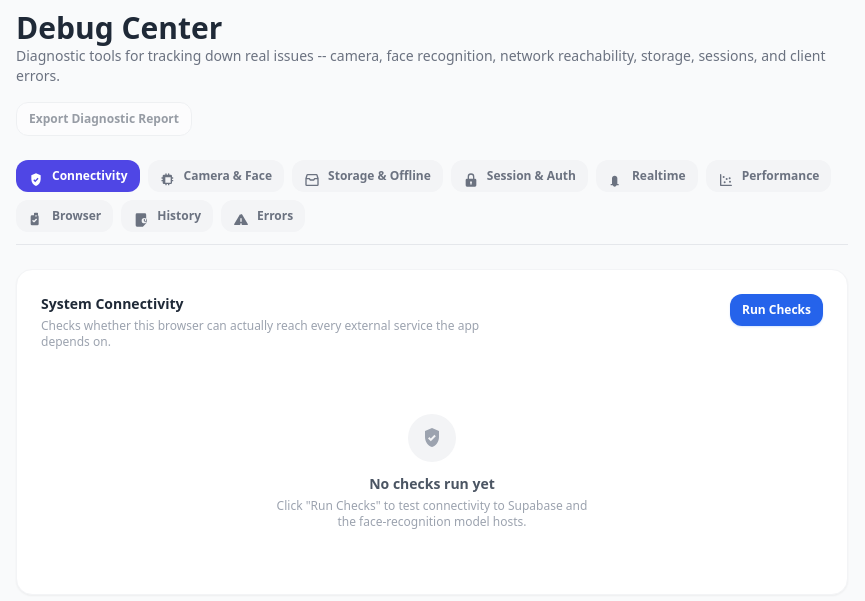
Test: DebugCenterView › the connectivity tab shows a Hugging Face reachability failure
Click the button "Run Checks".
click(776, 310)  # box [730,294,823,326]
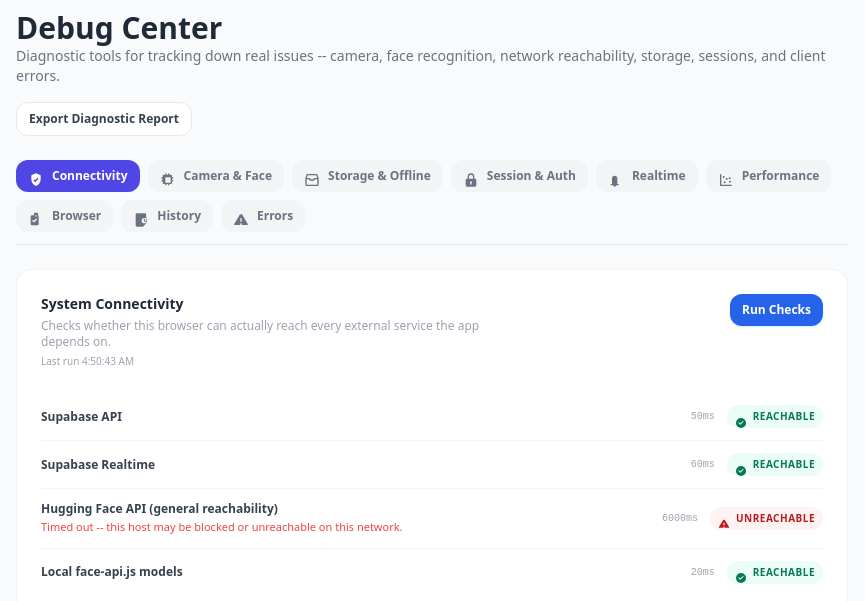
Check: the text "Hugging Face API (general reachability)" is shown, box [41,500,278,517]
Check: the text "Unreachable" is shown, box [710,507,823,530]
